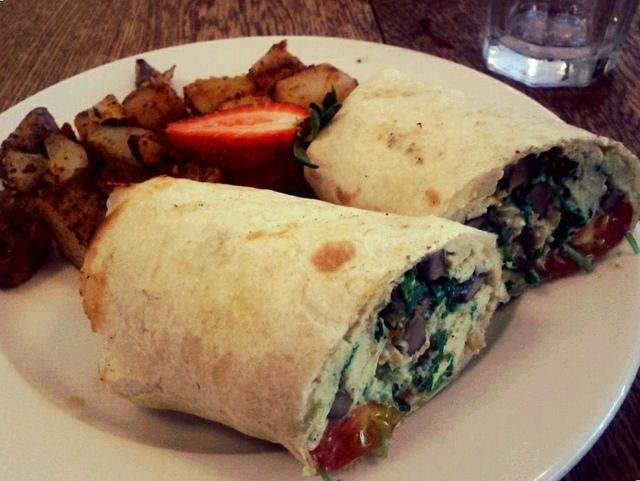potato: (34, 181, 111, 269), (1, 189, 53, 291), (246, 40, 314, 102), (272, 62, 359, 110), (122, 83, 191, 131), (91, 158, 159, 204), (0, 107, 59, 160), (183, 76, 257, 118), (74, 94, 128, 142), (44, 132, 89, 188), (0, 149, 48, 193), (218, 92, 273, 111), (178, 161, 224, 182)
strawberry: (166, 84, 342, 177)
